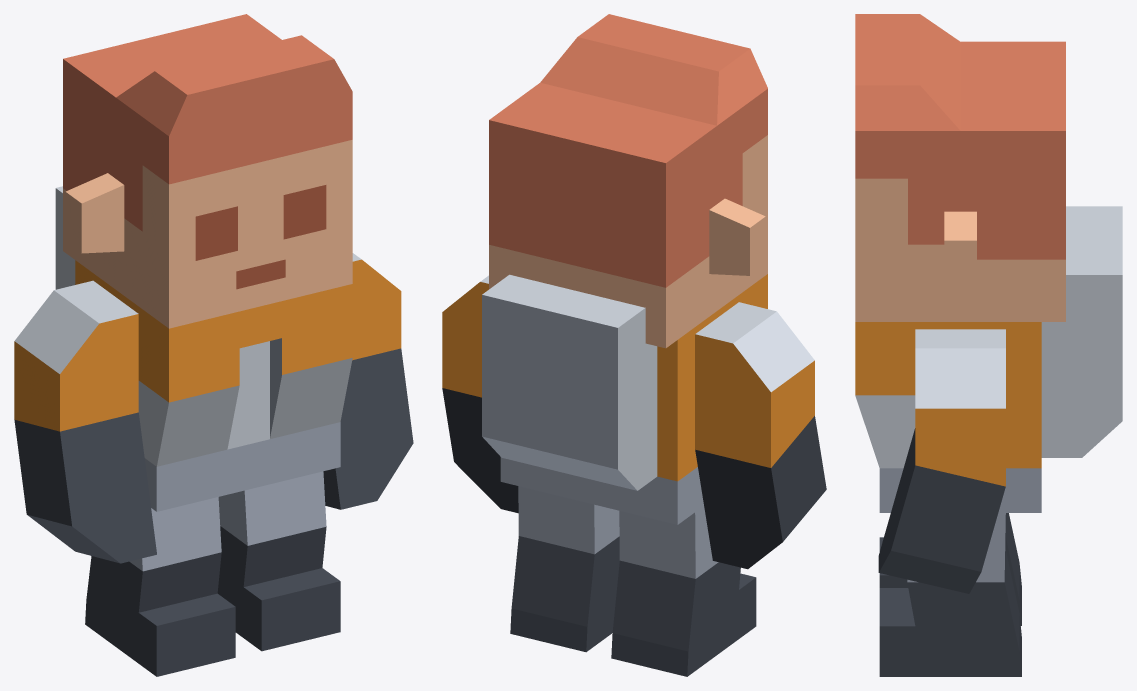
Rendered from astronautA.glb.
3 renders of one model, left to right at view 1: azimuth 30°, elevation 25°; view 2: azimuth 150°, elevation 25°; view 3: azimuth 270°, elevation 25°, orthographic. The views are drawn at different scales.
Visible parts, largest first — view 1: head, body, armRight, legRight, legLeft, armLeft; view 2: head, body, armRight, legRight, legLeft, armLeft; view 3: head, body, armLeft, legLeft, legRight.
Boxes of the visible parts, box(x1,y1,x2,y2) form: head: box(63, 14, 352, 328); body: box(55, 186, 352, 511); armRight: box(14, 280, 156, 563); legRight: box(85, 497, 235, 676); legLeft: box(217, 471, 340, 651); armLeft: box(323, 253, 413, 509); head: box(489, 14, 767, 348); body: box(482, 274, 767, 524); armRight: box(695, 302, 826, 569); legRight: box(611, 506, 756, 676); legLeft: box(510, 486, 619, 652); armLeft: box(442, 275, 518, 513); head: box(855, 14, 1065, 321); body: box(855, 206, 1122, 512); armLeft: box(878, 329, 1005, 593); legLeft: box(879, 513, 1021, 676); legRight: box(879, 513, 1021, 625).
Bounding box in the file's own units: 0.4832 × 0.7932 × 0.33.
